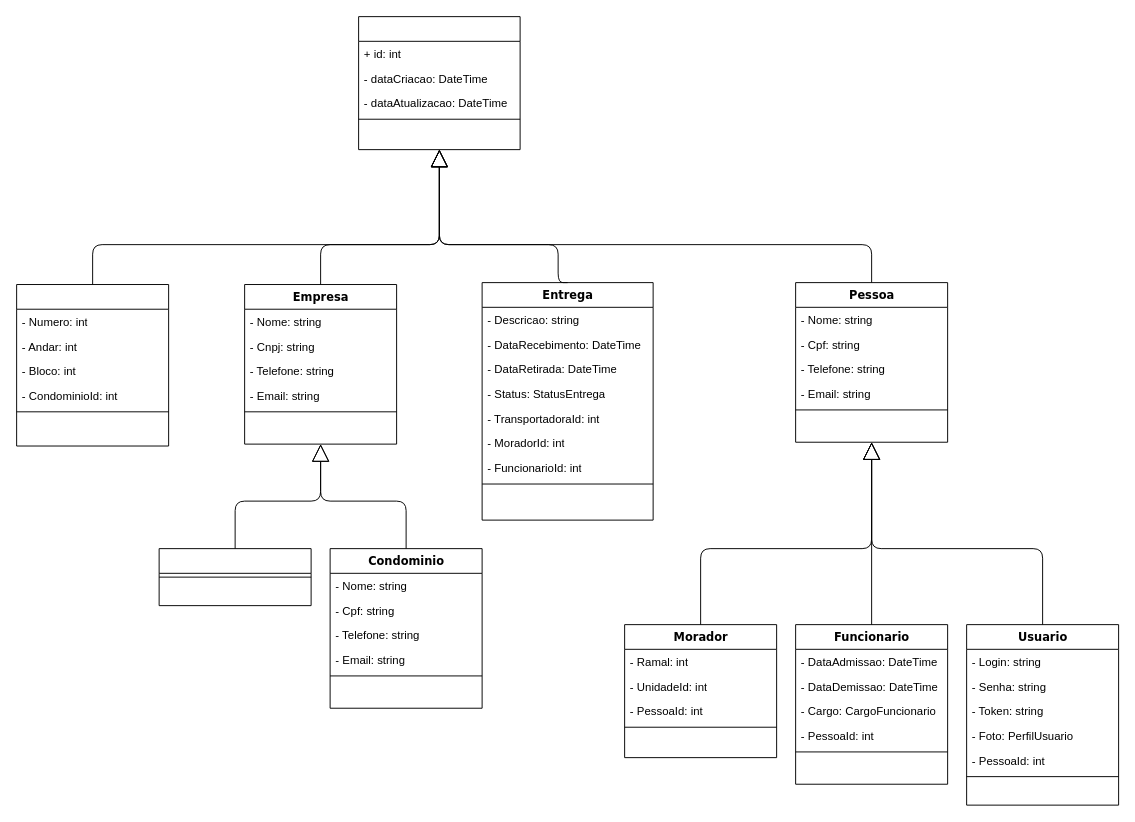
This 1135x822 diagram has some shape labels left out. The box of each missing label's shape, as (x1, y1, x2, y2) in pixels:
EntityBase: (358, 16, 520, 150)
Transportadora: (158, 548, 311, 606)
Unidade: (16, 284, 169, 446)
